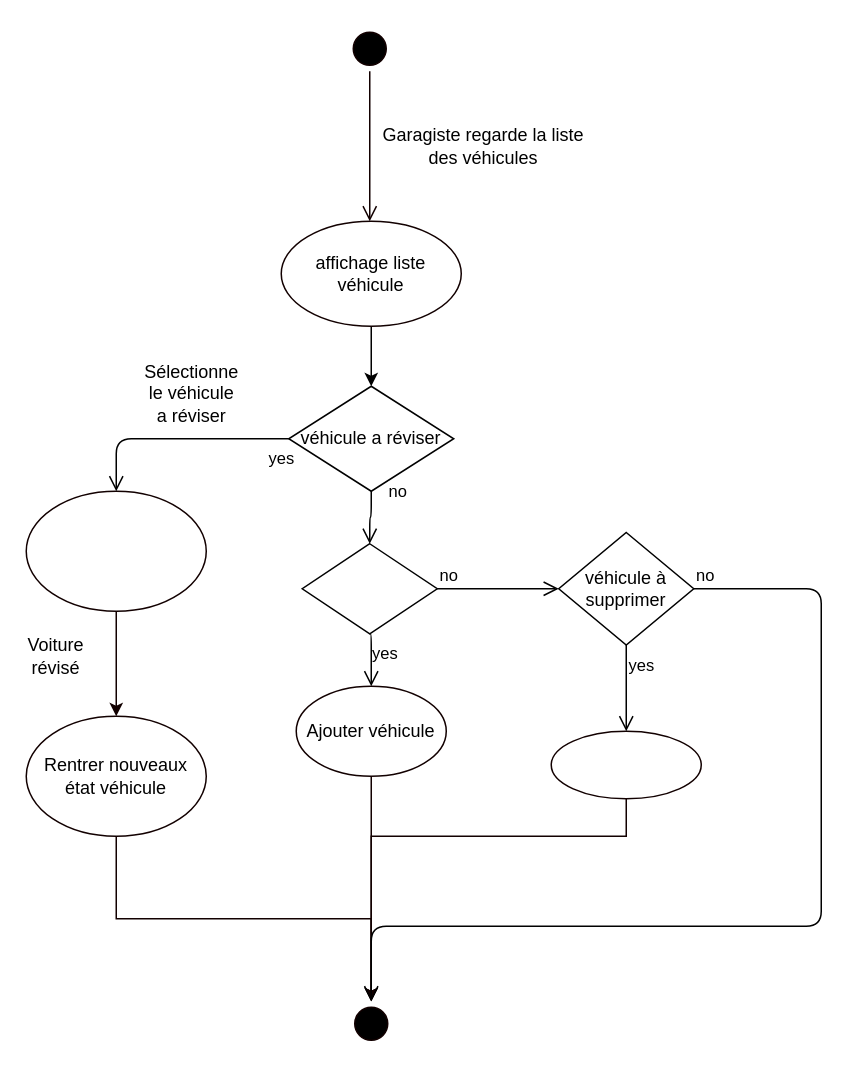
This 863x1073 diagram has some shape labels left out. Here are the shapes that lost their labels. From the top down, the centre of each, then its label:
At point (115, 550): "Affichage fiche vehicule".
At point (369, 588): "véhicule à ajouter".
At point (625, 764): "Supprimer véhicule".
